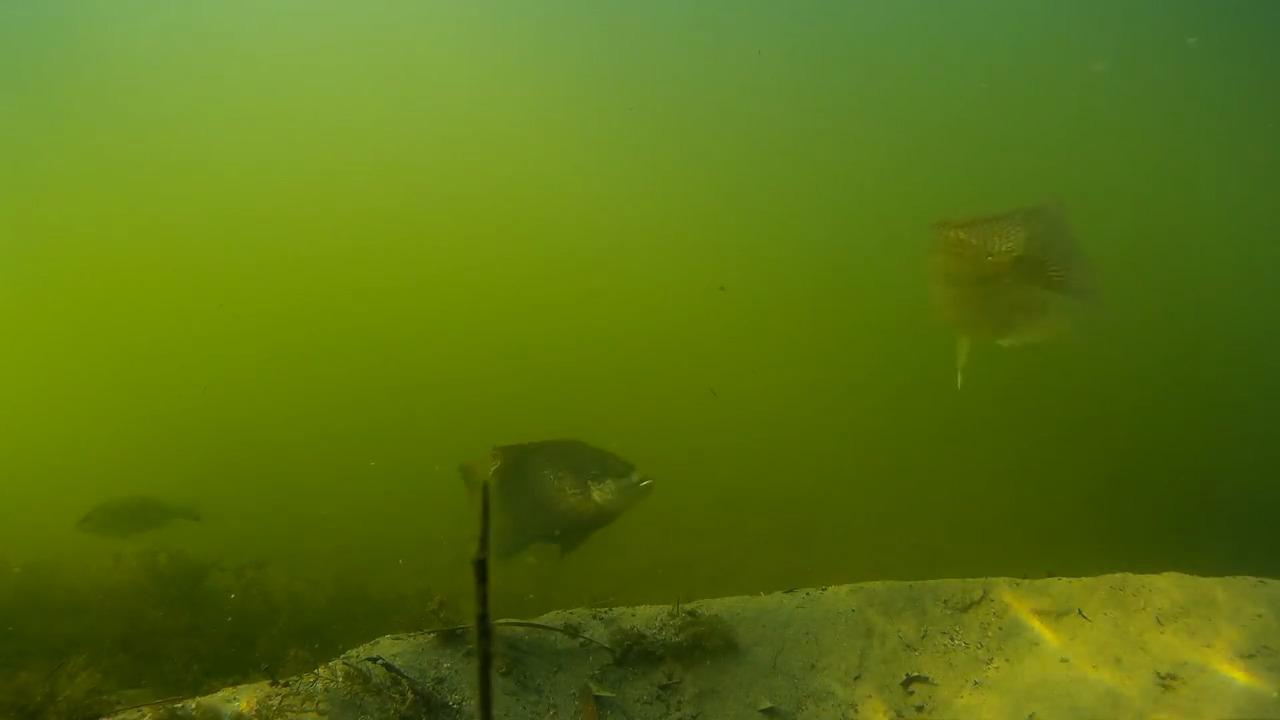Tilapia: (922, 172, 1095, 378), (438, 428, 675, 574), (69, 468, 247, 572)
